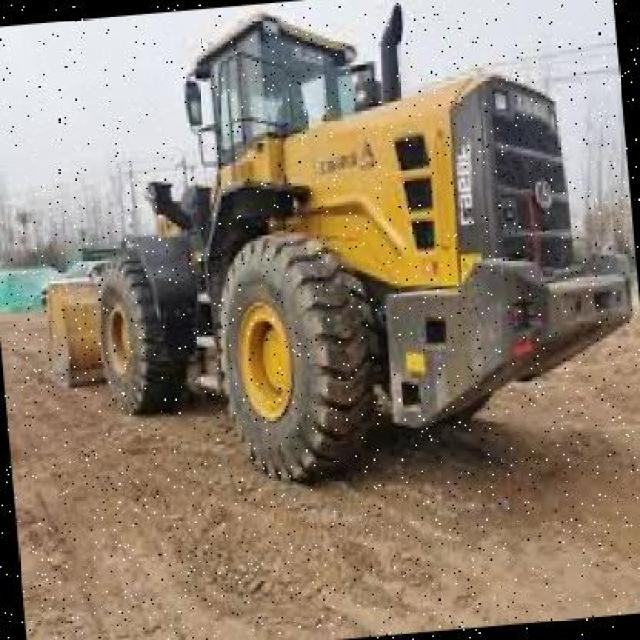buldozerpayloadergrader: (57, 0, 640, 502)
